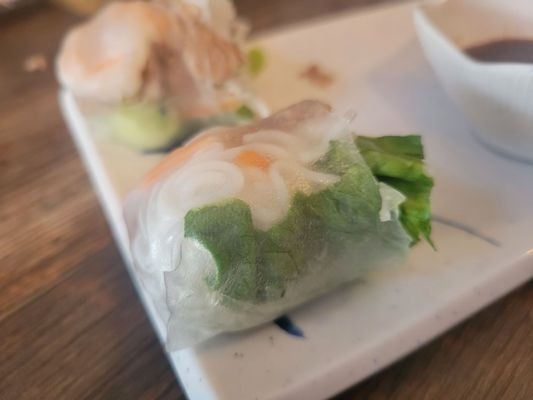soup: (115, 99, 439, 370)
sushi: (412, 0, 533, 165)
